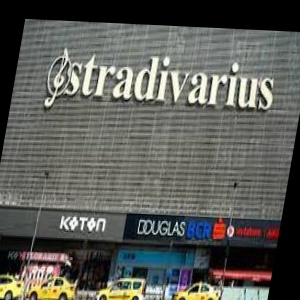stradivarius: (275, 39, 300, 55)
